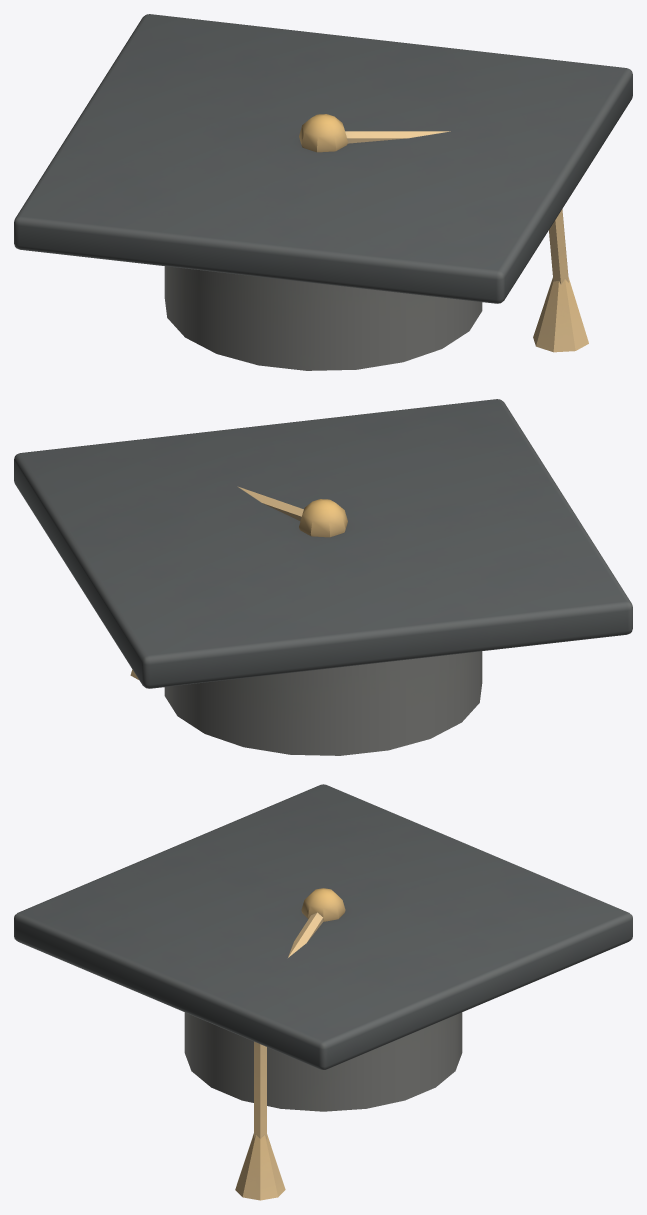
The model's file is GraduationCap.fbx.
3 views of the same model, one above another, from view 1: azimuth 30°, elevation 25°; view 2: azimuth 150°, elevation 25°; view 3: azimuth 270°, elevation 25° (orthographic). The views are drawn at different scales.
Parts seen in each view (by area): view 1: GraduationCap; view 2: GraduationCap; view 3: GraduationCap.
Boxes of the visible parts, <box> form: GraduationCap: <box>14,14,632,370</box>; GraduationCap: <box>14,399,632,755</box>; GraduationCap: <box>14,784,632,1200</box>.
Size of the model in its own units: 98.1 by 37.5 by 98.1.
